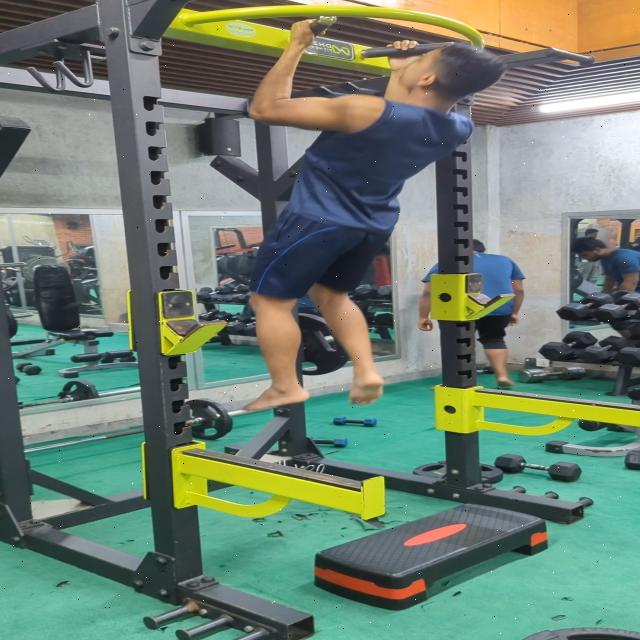Normal_PullUps: (230, 13, 518, 413)
